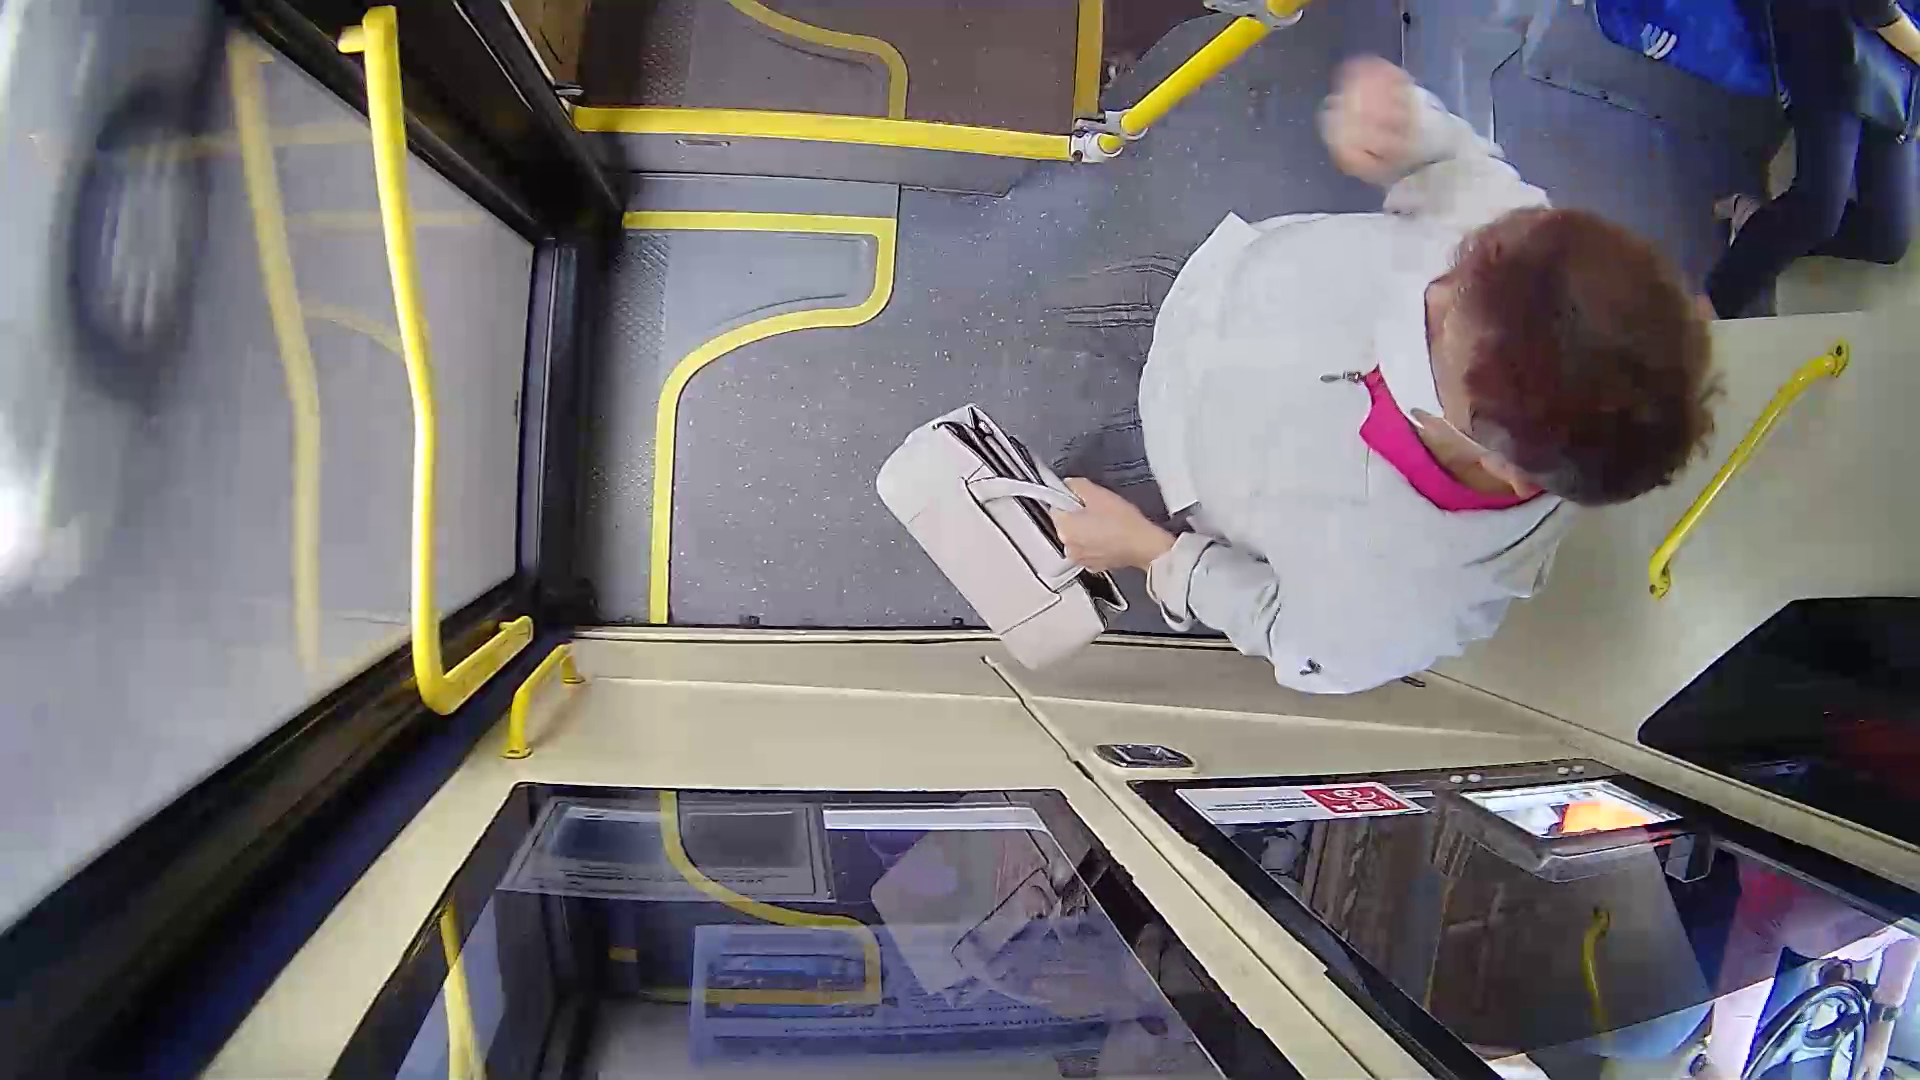person: (880, 73, 1763, 737)
